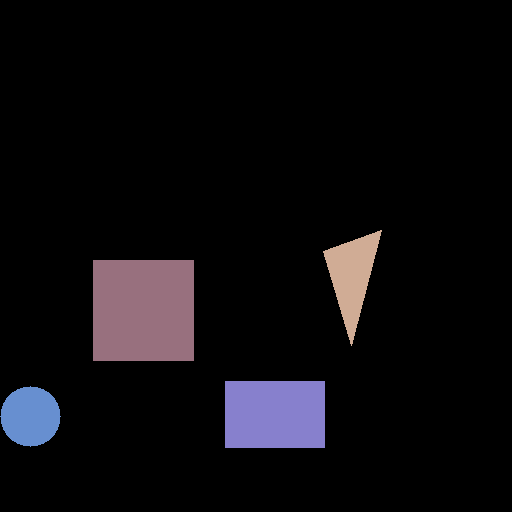circle: (0, 386, 60, 446)
rectangle: (225, 381, 324, 447)
square: (93, 260, 193, 360)
triangle: (323, 230, 381, 345)
